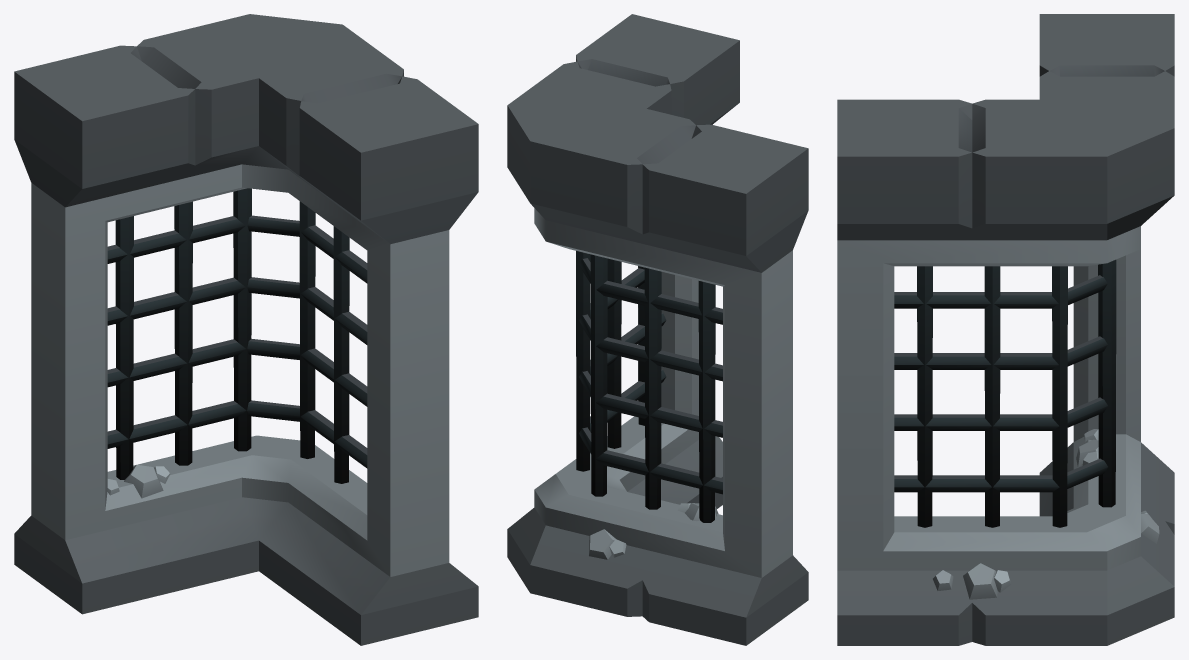
File: wall_corner_gated.glb
3 views of the same model, side by side, from view 1: azimuth 30°, elevation 25°; view 2: azimuth 150°, elevation 25°; view 3: azimuth 270°, elevation 25° (orthographic). The views are drawn at different scales.
Parts seen in each view (by area): view 1: wall_corner_gated; view 2: wall_corner_gated; view 3: wall_corner_gated.
Part boxes in pixels (bbox=[...]): wall_corner_gated: bbox=[14, 14, 478, 645]; wall_corner_gated: bbox=[507, 14, 808, 645]; wall_corner_gated: bbox=[837, 14, 1174, 645].
Size of the model in its own units: 1.25 by 2 by 1.25.
1 material, 1 textured.
